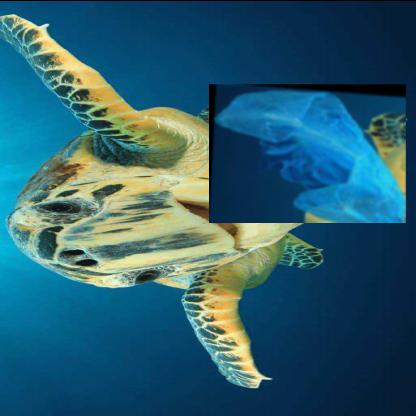plastic-bag: (209, 82, 407, 222)
